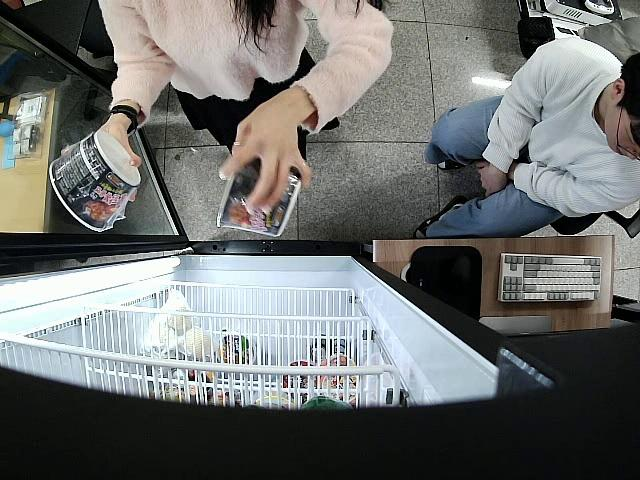00_hand: (219, 94, 313, 215), (60, 129, 144, 170)
07_buldak_L: (51, 132, 142, 233), (217, 157, 300, 237)
